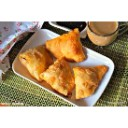samosa: (46, 28, 86, 62), (72, 63, 109, 98), (43, 57, 76, 96), (21, 46, 52, 81)
